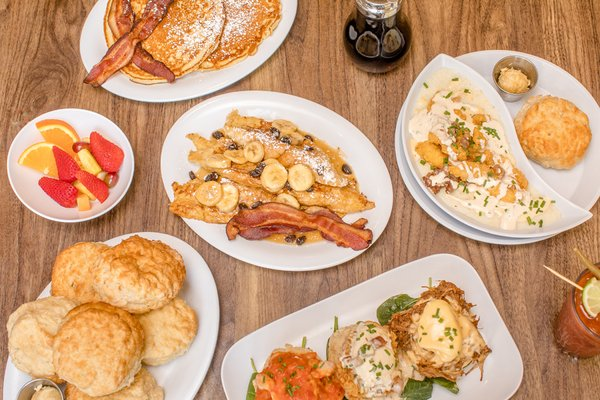sushi: (6, 108, 135, 223)
